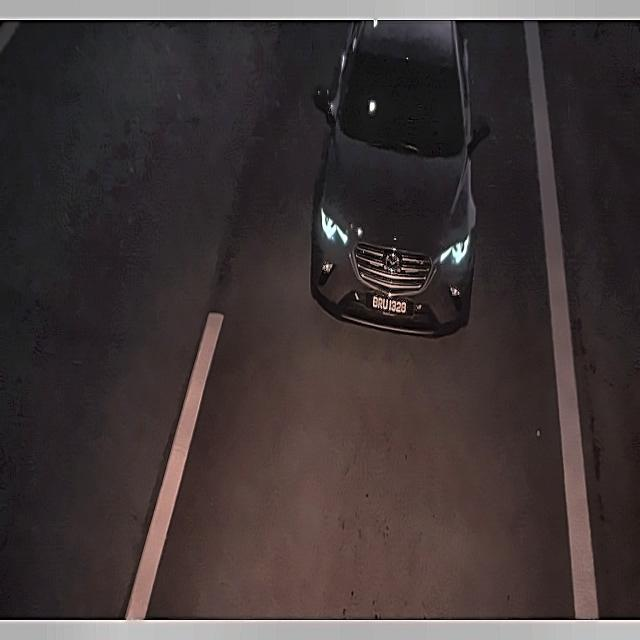car: (366, 281, 412, 325)
